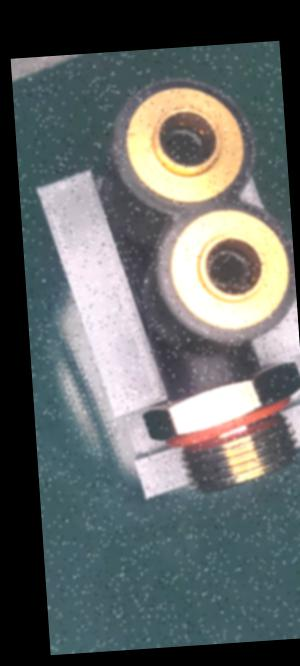off-centered: (202, 240, 257, 294)
white mark: (203, 368, 223, 381), (224, 367, 233, 378)
